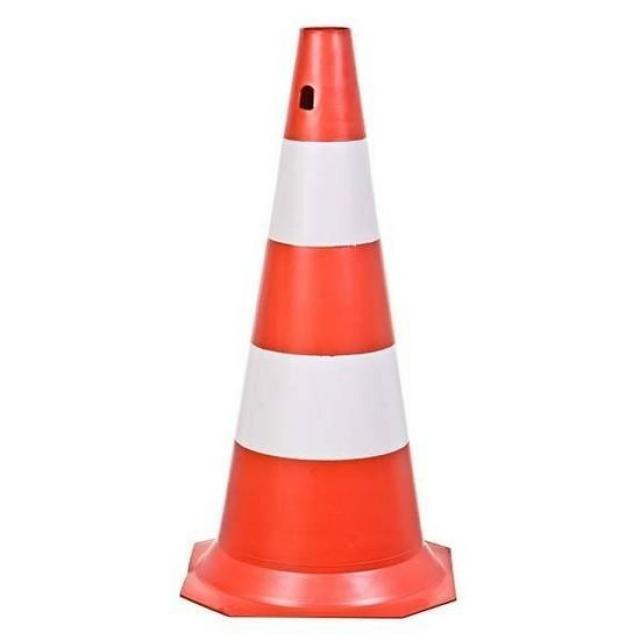traffic cone: (175, 27, 457, 620)
